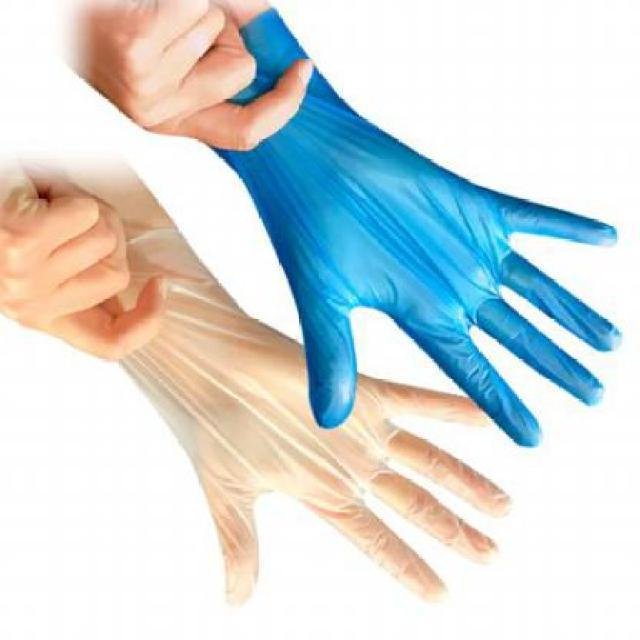gloved_hand: (22, 160, 520, 616), (202, 8, 624, 456)
